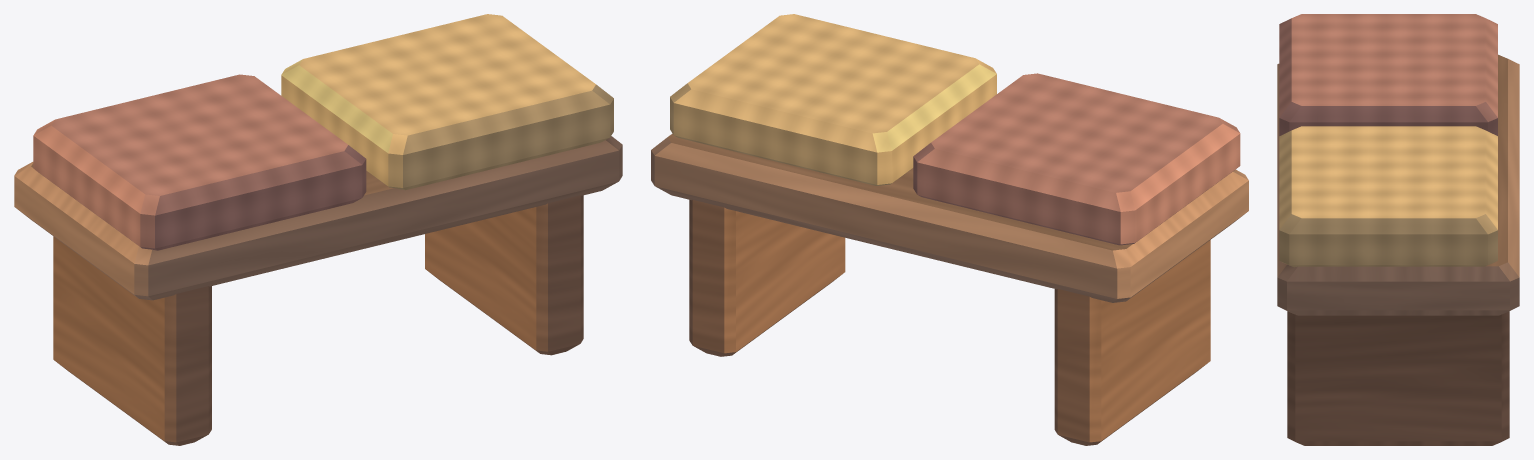
The model's file is furniture_cushion.glb.
The picture shows the model from 3 angles, left to right: view 1: azimuth 30°, elevation 25°; view 2: azimuth 150°, elevation 25°; view 3: azimuth 270°, elevation 25°; orthographic projection. The views are drawn at different scales.
Parts seen in each view (by area): view 1: Kissenbank; view 2: Kissenbank; view 3: Kissenbank.
Boxes of the visible parts, x1,y1,x2,y2 form: Kissenbank: (14, 14, 622, 445); Kissenbank: (651, 14, 1248, 445); Kissenbank: (1277, 14, 1519, 445).
Bounding box in the file's own units: 1.34 × 0.6755 × 0.62.
2 materials, 2 textured.
